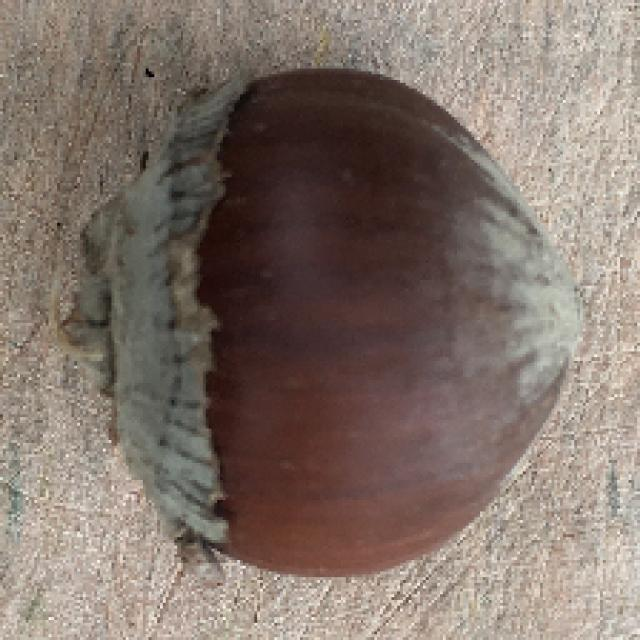damagedHazelnut: (43, 45, 596, 589)
